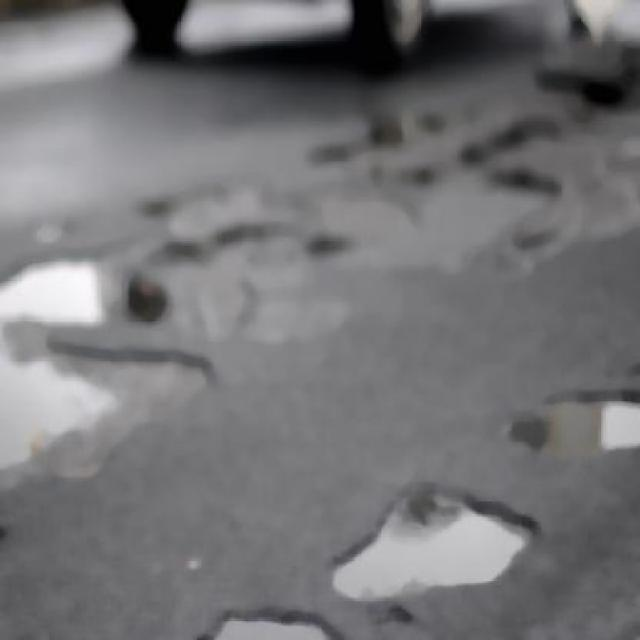Pothole: (343, 484, 522, 596), (188, 577, 366, 638), (527, 380, 639, 454)
